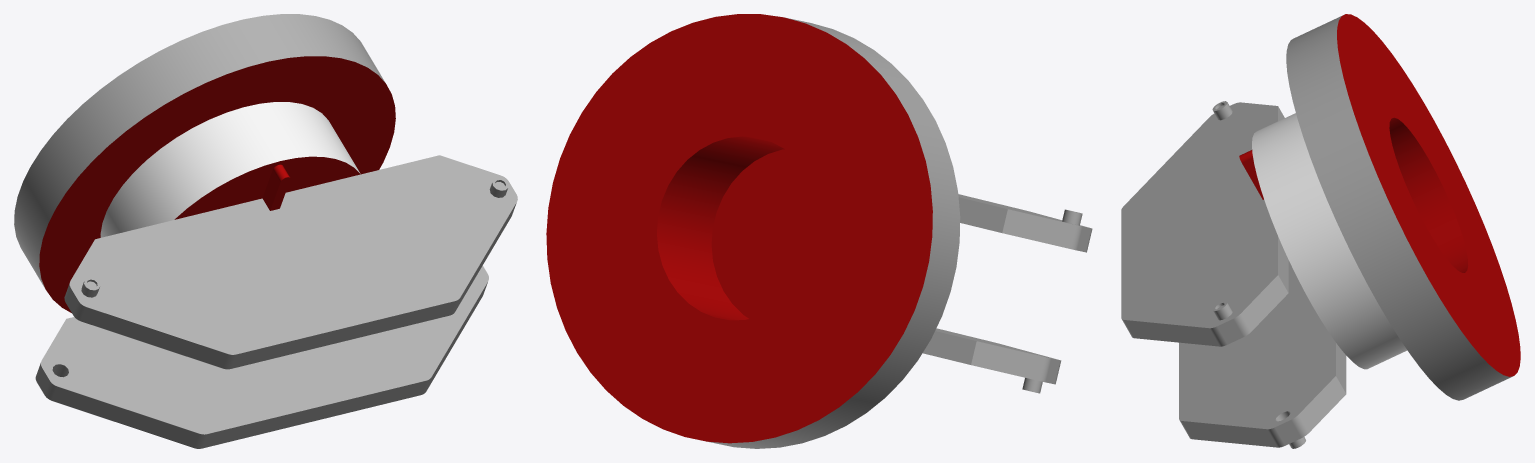
The model's file is End_Effector_Mount1.glb.
The picture shows the model from 3 angles, left to right: view 1: azimuth 30°, elevation 25°; view 2: azimuth 150°, elevation 25°; view 3: azimuth 270°, elevation 25°; orthographic projection. The views are drawn at different scales.
Parts seen in each view (by area): view 1: Solid1.006; view 2: Solid1.006; view 3: Solid1.006.
Boxes of the visible parts, bbox=[...] form: Solid1.006: bbox=[14, 14, 517, 448]; Solid1.006: bbox=[546, 14, 1092, 448]; Solid1.006: bbox=[1121, 14, 1520, 448].
Size of the model in its own units: 0.0889 by 0.0674 by 0.07.
